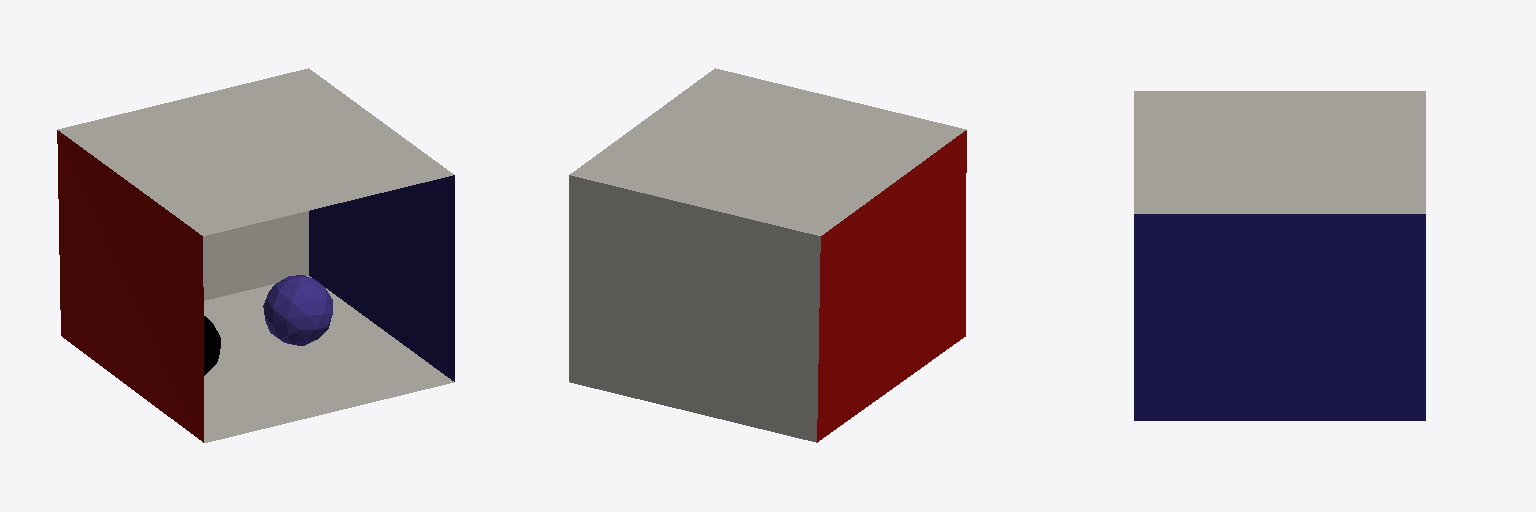
File: CornellBox-Sphere-1331.obj
3 renders of one model, left to right at view 1: azimuth 30°, elevation 25°; view 2: azimuth 150°, elevation 25°; view 3: azimuth 270°, elevation 25°, orthographic.
Visible parts, largest first — view 1: ceiling, leftWall, floor, rightWall, backWall, leftSphere, rightSphere; view 2: backWall, ceiling, leftWall; view 3: rightWall, ceiling.
Part boxes in pixels (left/top/right/bottom): ceiling: left=58, top=68, right=453, bottom=235; leftWall: left=57, top=130, right=203, bottom=442; floor: left=204, top=276, right=453, bottom=442; rightWall: left=309, top=175, right=454, bottom=381; backWall: left=203, top=211, right=308, bottom=300; leftSphere: left=263, top=275, right=332, bottom=345; rightSphere: left=204, top=316, right=220, bottom=375; backWall: left=569, top=175, right=820, bottom=442; ceiling: left=570, top=68, right=965, bottom=235; leftWall: left=817, top=130, right=966, bottom=442; rightWall: left=1134, top=214, right=1425, bottom=420; ceiling: left=1134, top=91, right=1425, bottom=213.
Bounding box in the file's own units: 2.02 × 1.59 × 2.03.